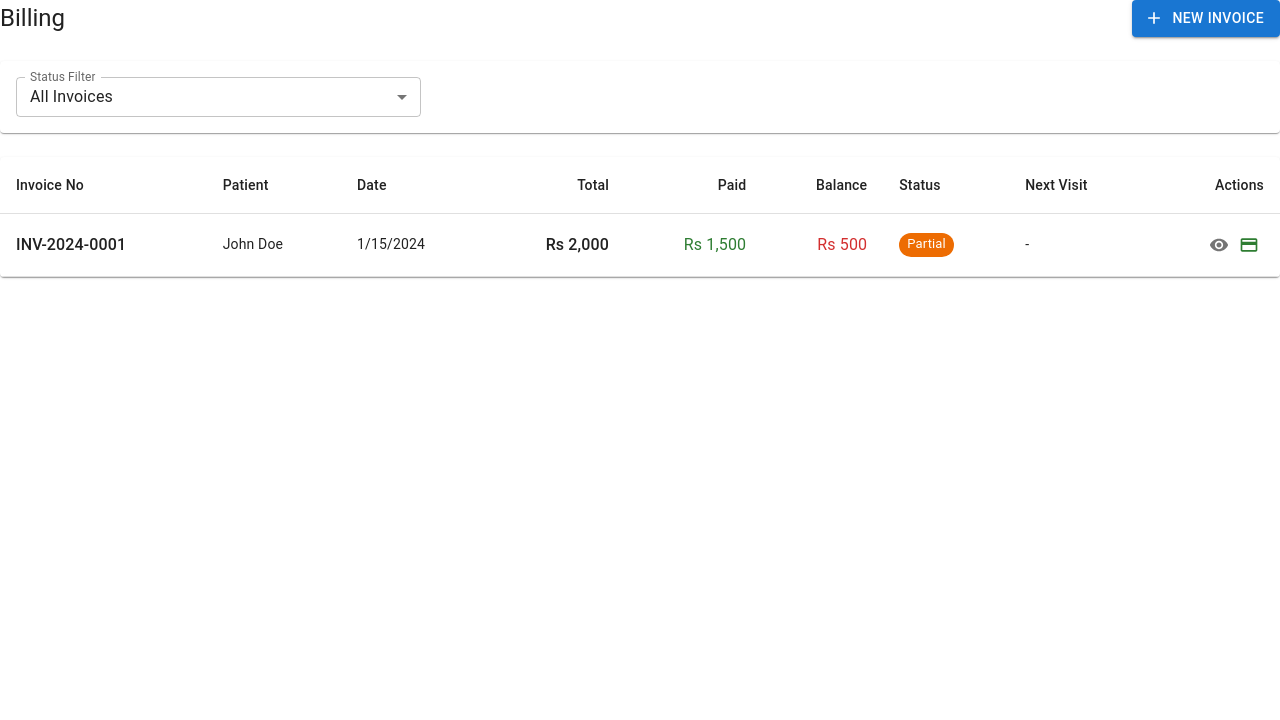
Test case: Invoice Workflow Integration Tests › View Invoice Details › should display payment history in invoice details
Expected: the text "INV-2024-0001" is shown, [16, 234, 126, 254]
Click view button
Click the button named "view invoice" at (1219, 244), box [1204, 230, 1234, 260]
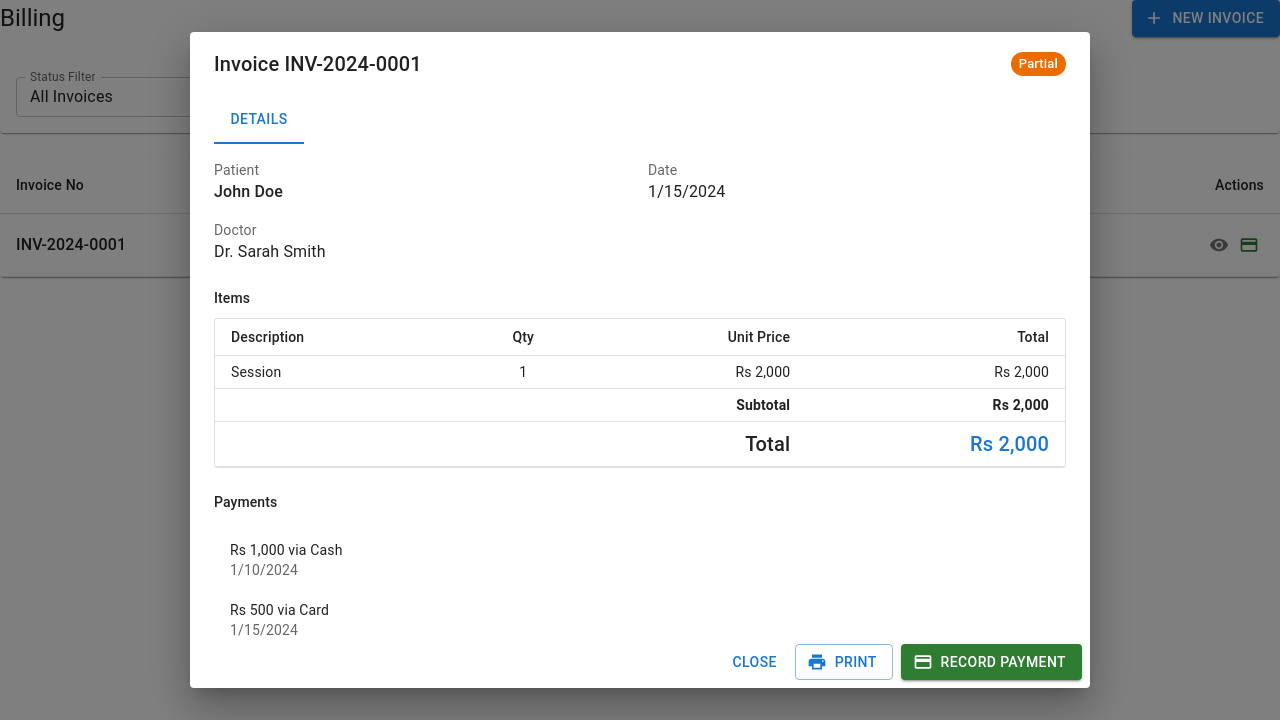
Result: the text "Rs 1,000 via Cash" is shown at [230, 542, 342, 558]
Result: the text "Rs 500 via Card" is shown at [230, 602, 329, 618]
